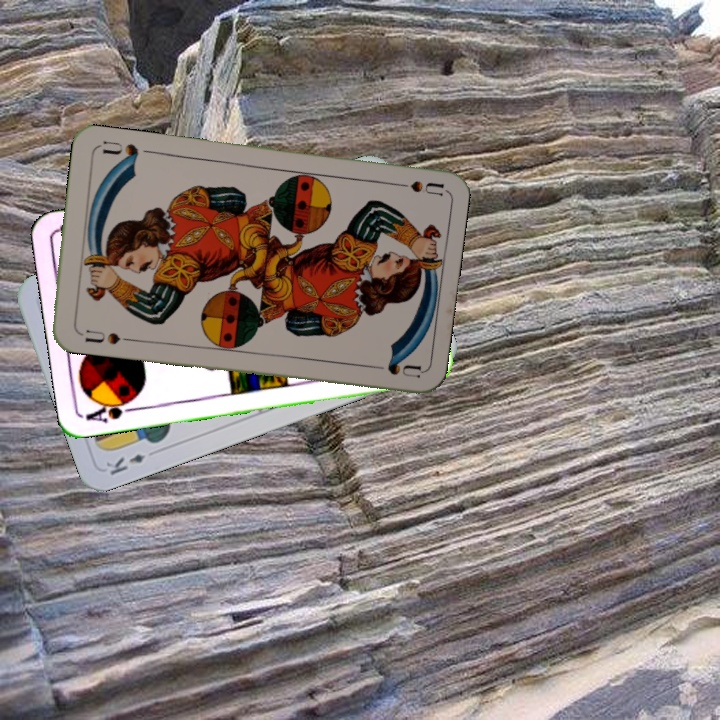EK: (102, 450, 148, 478)
SA: (83, 394, 142, 426)
SU: (385, 177, 444, 198), (81, 326, 123, 347)
